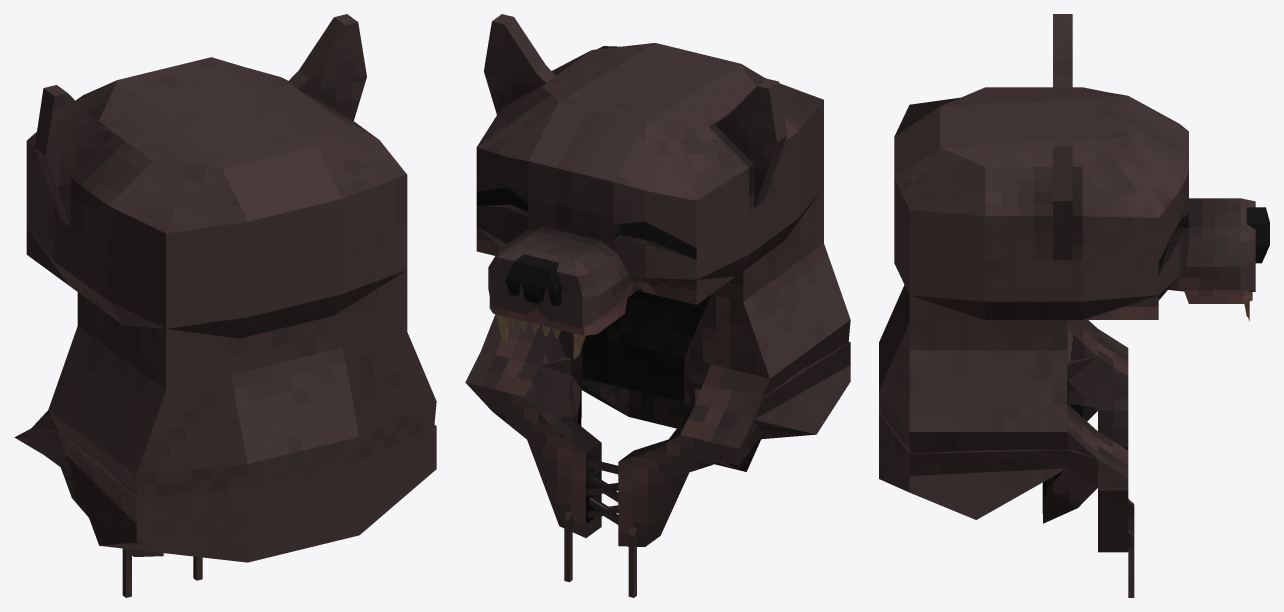
The picture shows the model from 3 angles, left to right: view 1: azimuth 30°, elevation 25°; view 2: azimuth 150°, elevation 25°; view 3: azimuth 270°, elevation 25°; orthographic projection. The views are drawn at different scales.
Visible parts, largest first — view 1: head, body; view 2: head, body; view 3: head, body.
Boxes of the visible parts, x1=… form: head: x1=26, y1=14, x2=436, y2=517; body: x1=14, y1=425, x2=436, y2=597; head: x1=476, y1=14, x2=850, y2=471; body: x1=465, y1=341, x2=850, y2=597; head: x1=879, y1=14, x2=1269, y2=523; body: x1=879, y1=329, x2=1134, y2=597.
Bounding box in the file's own units: 0.6965 × 1.16 × 0.82.
1 material, 1 textured.
